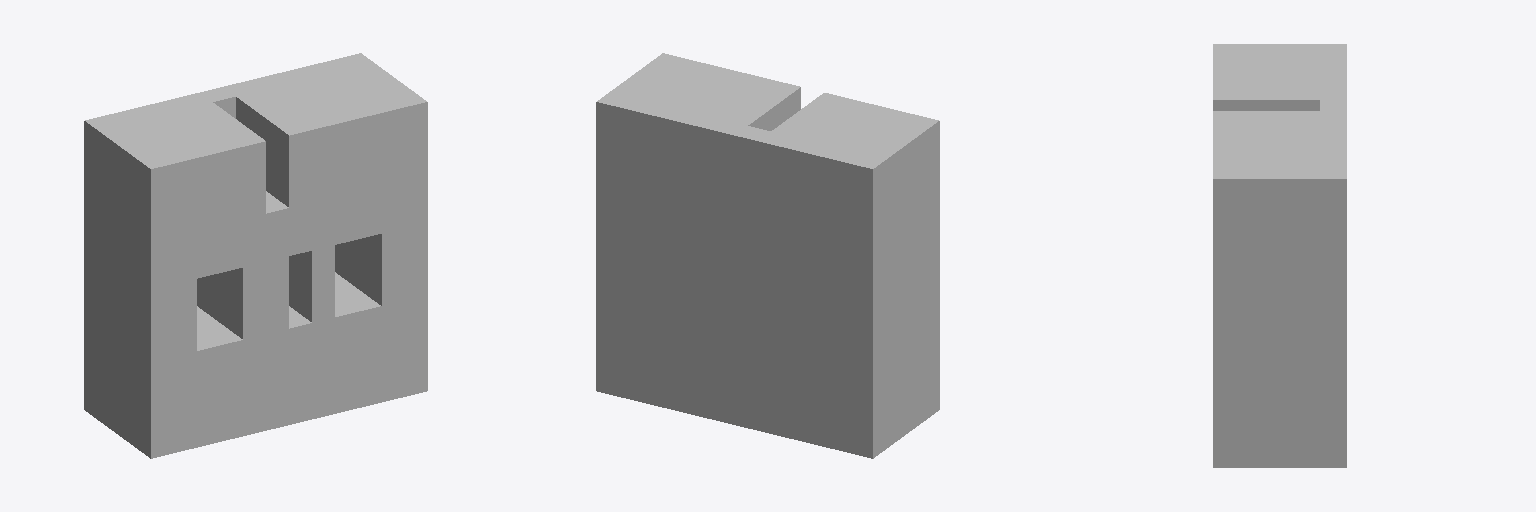
Rendered from bookshelf.obj.
The picture shows the model from 3 angles: view 1: azimuth 30°, elevation 25°; view 2: azimuth 150°, elevation 25°; view 3: azimuth 270°, elevation 25°; orthographic projection.
Parts seen in each view (by area): view 1: bookshelf; view 2: bookshelf; view 3: bookshelf.
Part boxes in pixels (bbox=[...]): bookshelf: bbox=[84, 53, 427, 458]; bookshelf: bbox=[596, 53, 939, 458]; bookshelf: bbox=[1213, 44, 1346, 467].
Size of the model in its own units: 12 by 12 by 5.